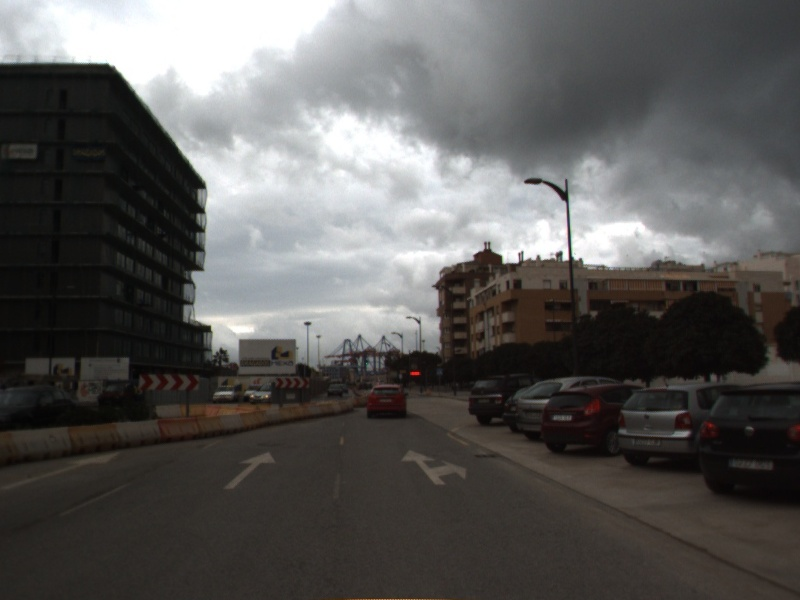STRAIGHT: (1, 449, 123, 493), (222, 449, 278, 490)
STRAIGHT_RIGHT: (399, 448, 468, 487)
